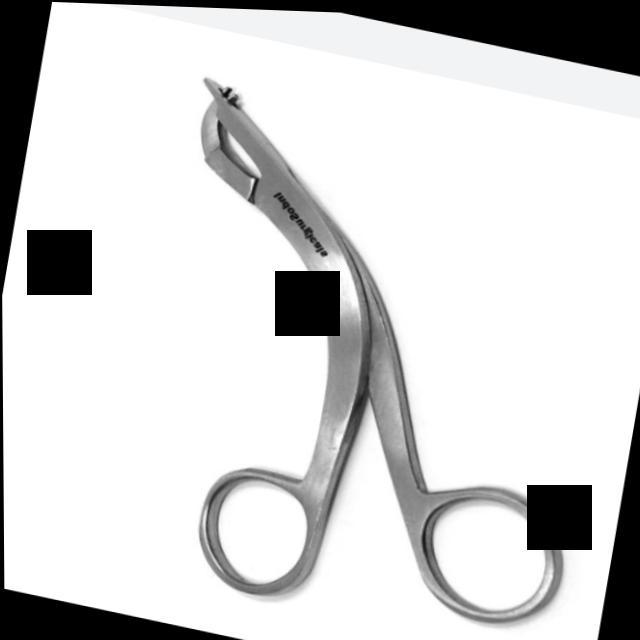Stapler Remover: (88, 59, 640, 640)
